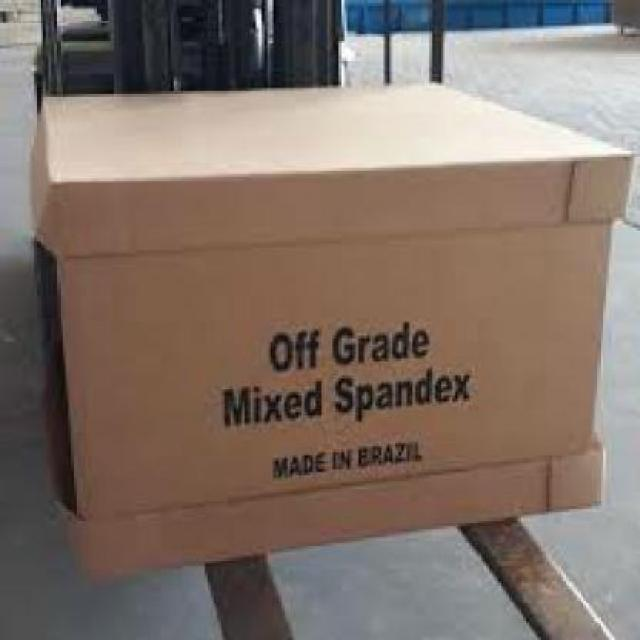-: (33, 84, 628, 564)
